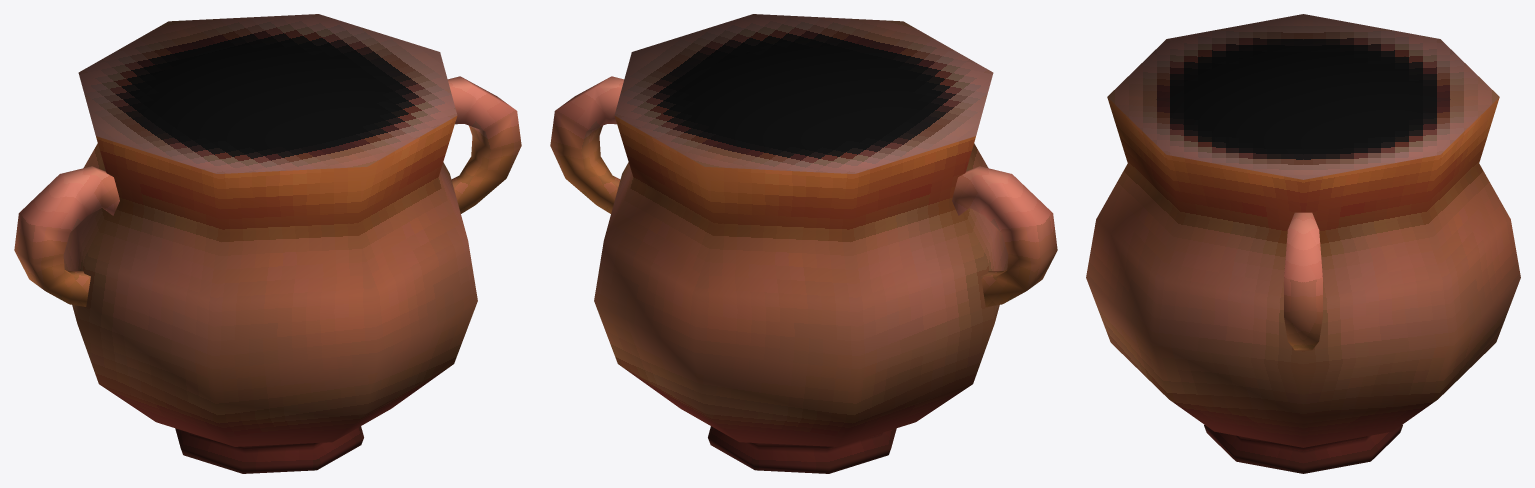
The model's file is pottery_05.glb.
3 renders of one model, left to right at view 1: azimuth 30°, elevation 25°; view 2: azimuth 150°, elevation 25°; view 3: azimuth 270°, elevation 25°, orthographic.
Parts seen in each view (by area): view 1: pottery_05; view 2: pottery_05; view 3: pottery_05.
Boxes of the visible parts, x1,y1,x2,y2 form: pottery_05: [14, 14, 521, 473]; pottery_05: [550, 14, 1057, 473]; pottery_05: [1086, 14, 1520, 473].
Bounding box in the file's own units: 0.9724 × 0.6487 × 0.7606.
Materials: 1 (1 with a texture image).
